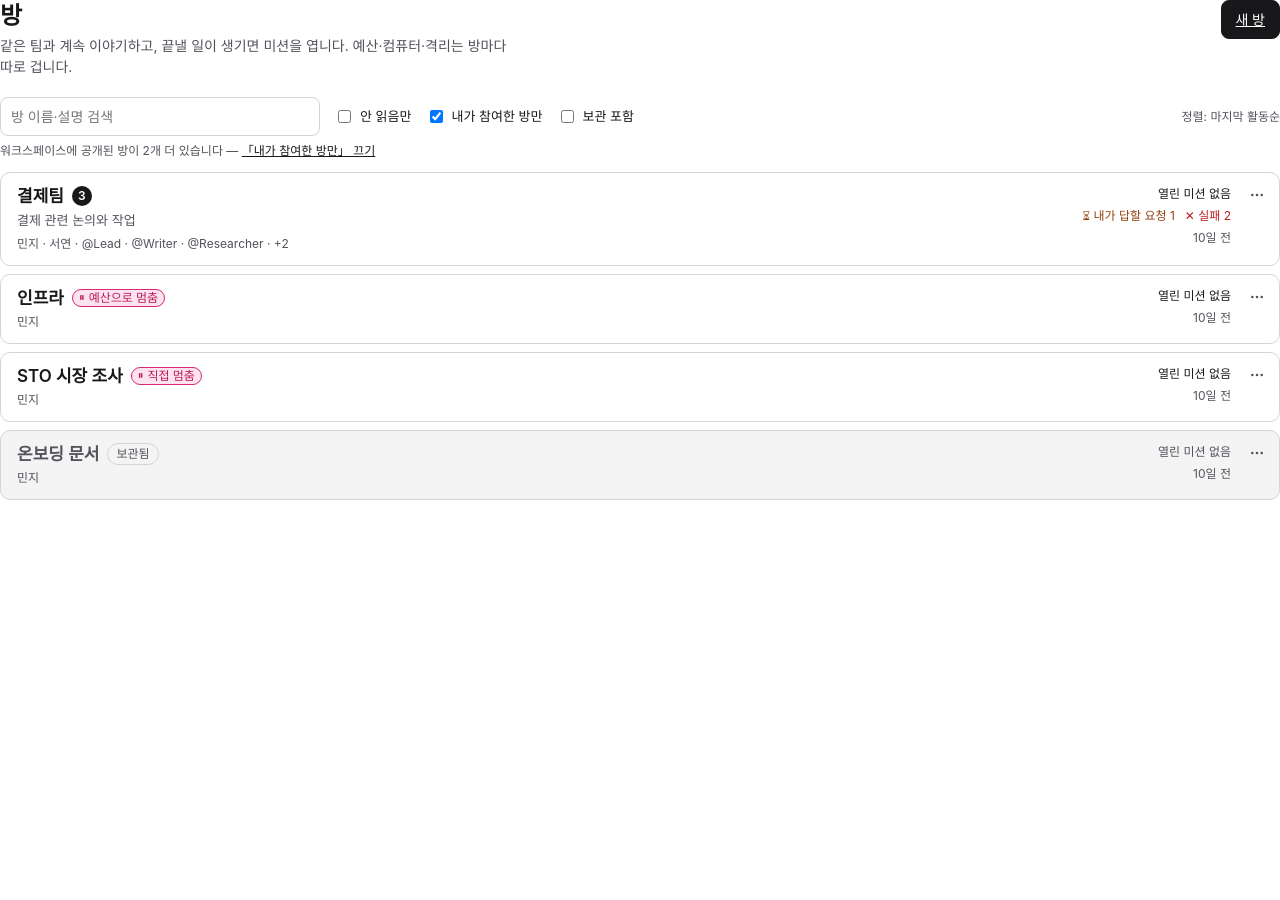
Scenario: 「…」 메뉴 › 삭제 → 사라지는 것을 나열 · 되돌릴 수 없음 → 204 → 카드가 빠지고 안내 한 줄
Expected: the number of elements with test id "room-row" is 4, [0,172,1279,266]; [0,274,1279,344]; [0,352,1279,422]; [0,430,1279,500]
What coordinates should you click on to do the following:
click the button with test id "room-menu-button" in the row of "결제팀"
I would click on:
 (1257, 195)
Its box is [1243,181,1271,209].
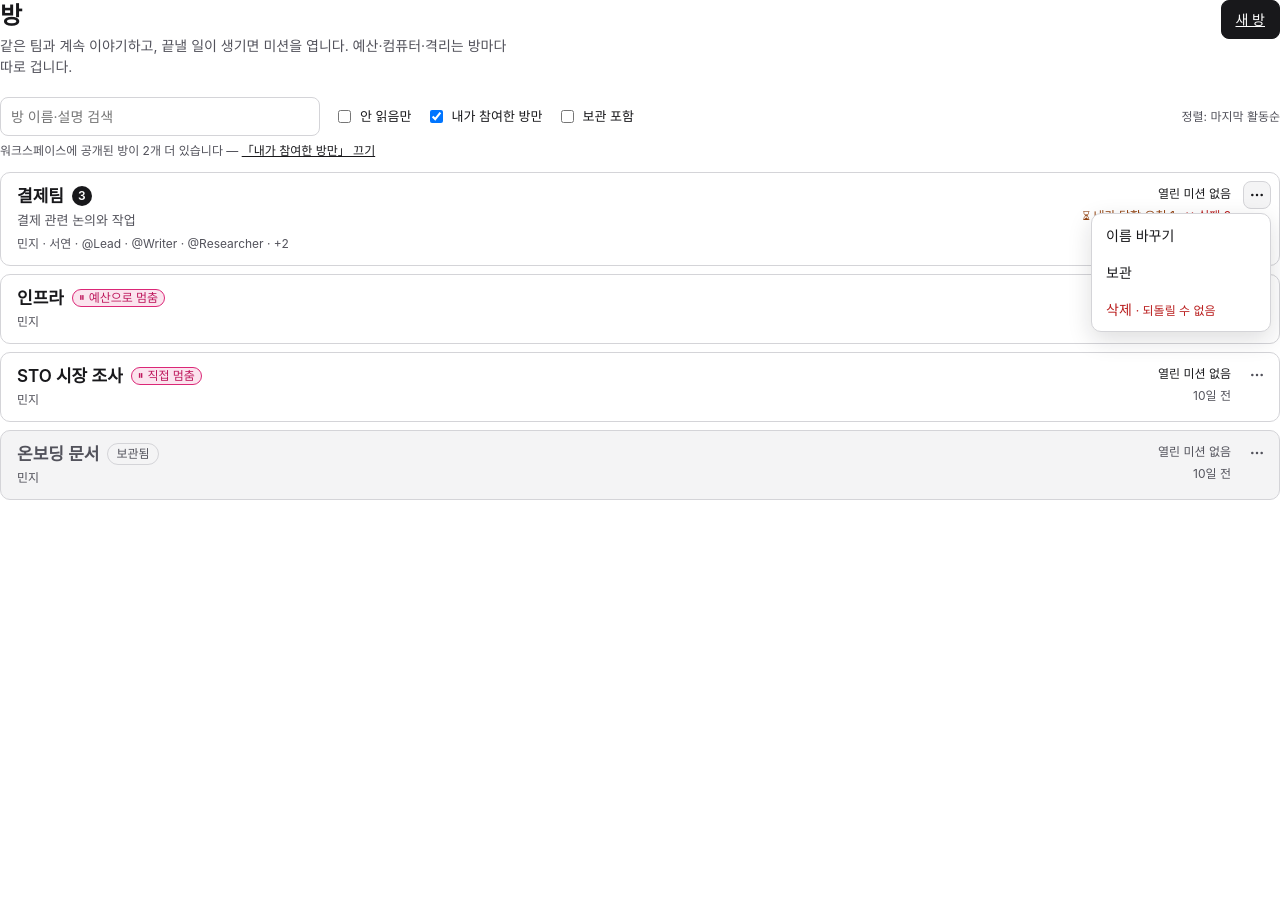
What coordinates should you click on to do the following:
click the menu item with test id "room-menu-delete"
I would click on:
 (1181, 310)
Its box is [1096,292,1266,327].
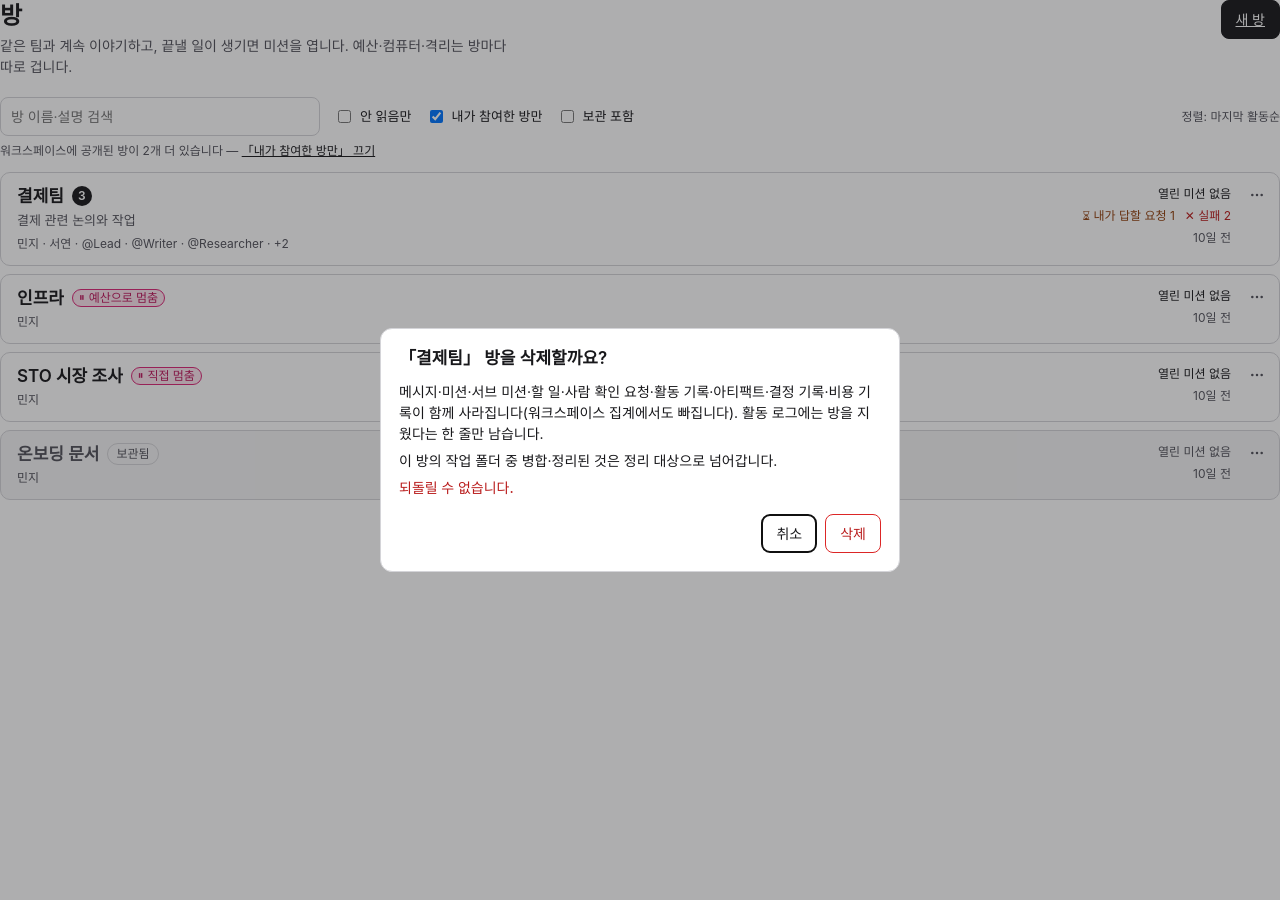
Expected: the dialog with test id "delete-room-dialog" shows "「결제팀」 방을 삭제할까요?", [399,348,607,368]
Expected: the dialog with test id "delete-room-dialog" shows "사람 확인 요청·활동 기록", [399,384,871,442]
Expected: the dialog with test id "delete-room-dialog" shows "되돌릴 수 없습니다.", [399,480,514,496]
What coordinates should you click on to do the following:
click the button with test id "delete-room-dialog-confirm"
I would click on:
 (853, 534)
Its box is [825,514,881,554].
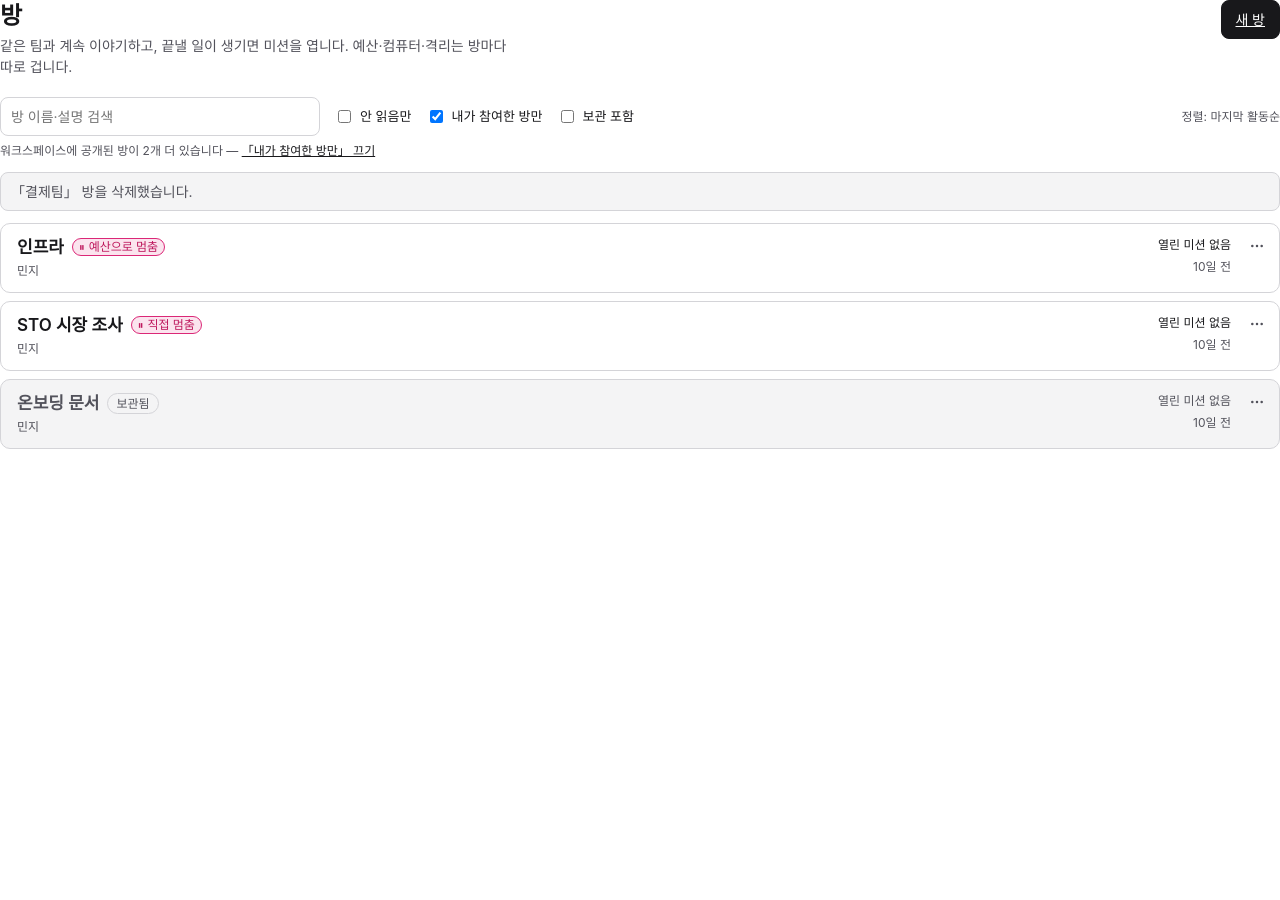
Expected: the number of elements with test id "room-row" is 3, [0,223,1279,293]; [0,301,1279,371]; [0,379,1279,450]
Expected: the message with test id "room-deleted-notice" reads "「결제팀」 방을 삭제했습니다.", [11,183,193,200]
